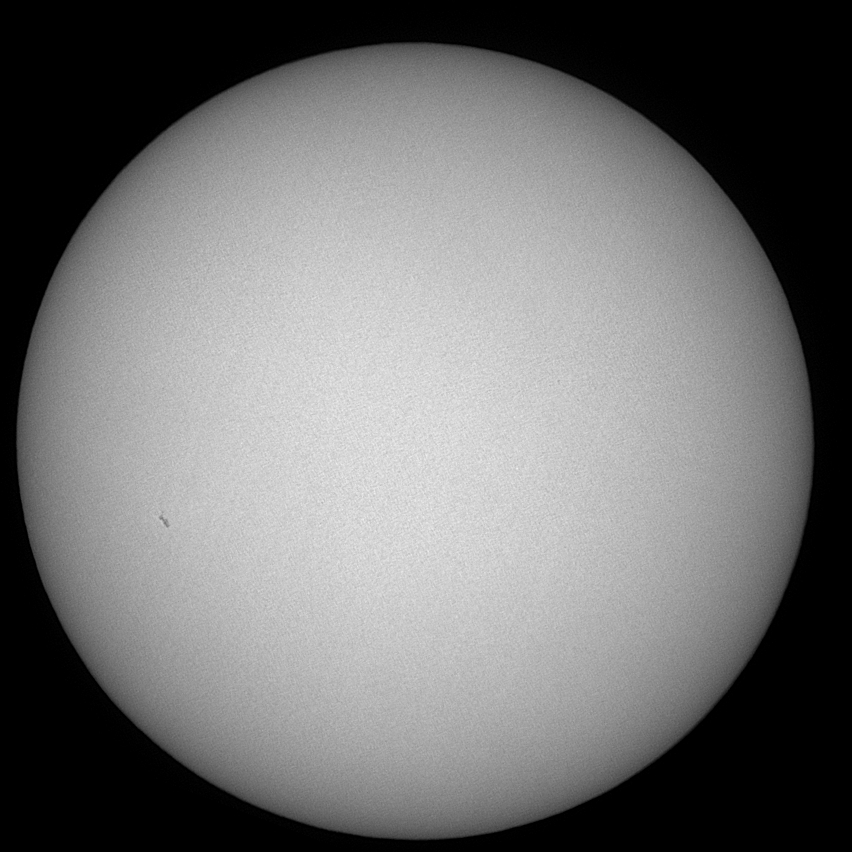sunspot: (153, 509, 173, 532)
